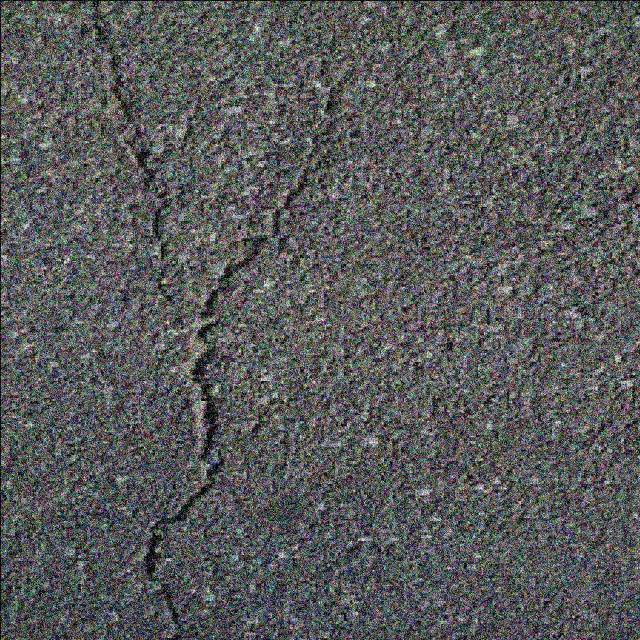SurfaceCrack: (118, 88, 366, 640), (78, 0, 186, 328)
